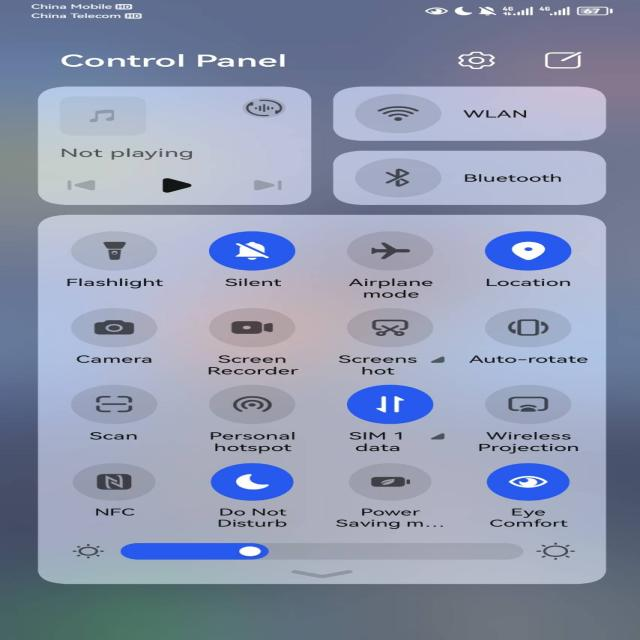Icon: (354, 158, 442, 198), (71, 231, 158, 271), (208, 231, 295, 271), (71, 384, 158, 424), (208, 384, 295, 424), (208, 308, 295, 347), (71, 308, 158, 347), (349, 231, 433, 271), (487, 231, 571, 271), (349, 384, 433, 424), (354, 95, 442, 133), (487, 308, 571, 347), (349, 308, 433, 347), (487, 386, 571, 424), (487, 463, 571, 501), (73, 463, 155, 501), (211, 463, 293, 501), (349, 463, 430, 501), (537, 543, 574, 559), (73, 544, 104, 558)
